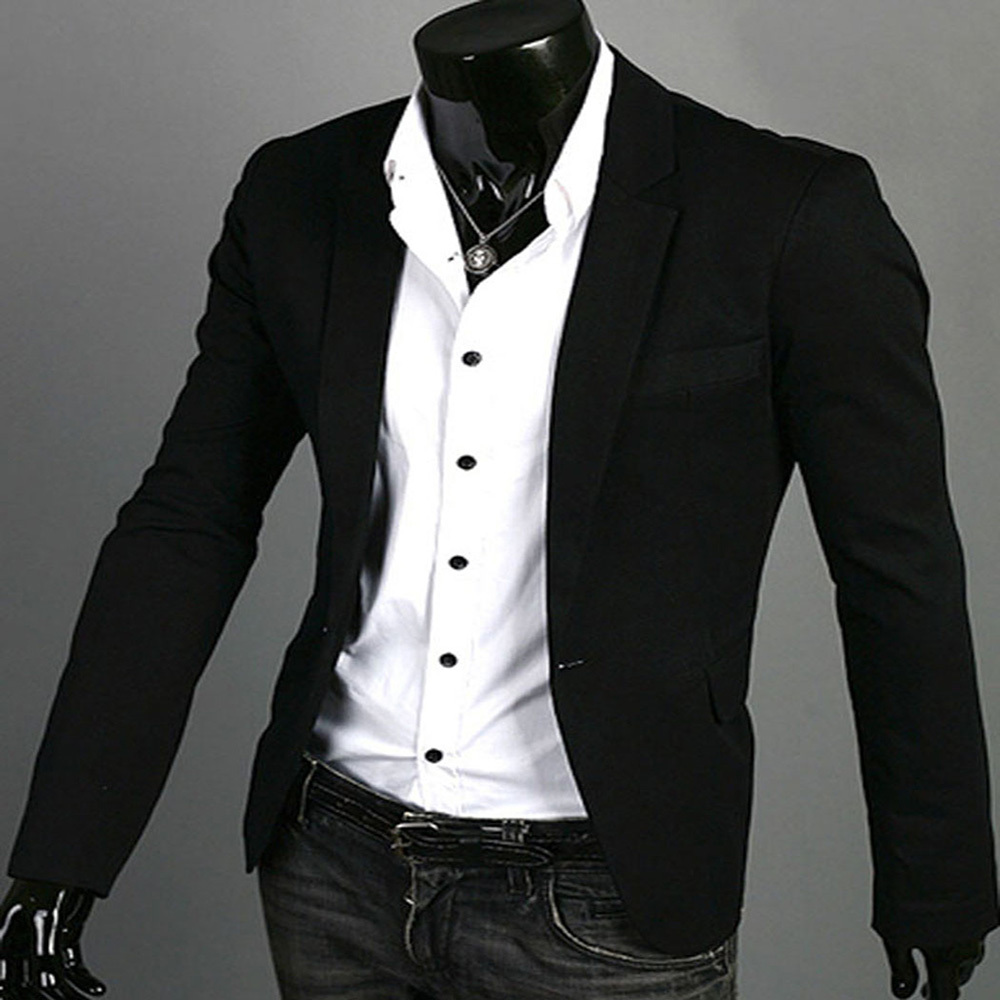F_M_suit jacket: (2, 58, 999, 928)
